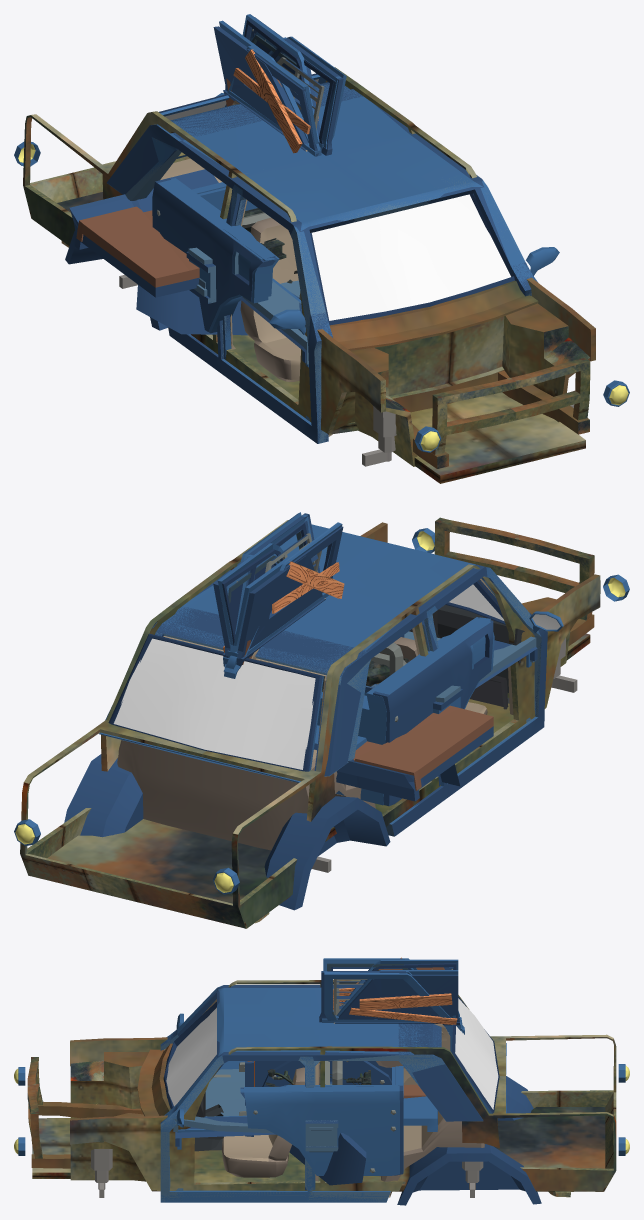
Rendered from car_s_atlasom_center_pivot.fbx.
3 renders of one model, top to bottom at view 1: azimuth 30°, elevation 25°; view 2: azimuth 150°, elevation 25°; view 3: azimuth 270°, elevation 25°, orthographic. The views are drawn at different scales.
Visible parts, largest first — view 1: frame, body, steklo_pered, krisha, bagazh (×2), nesnimaemoe1, t3_zad, salon2, bokovi_zad (×2), krysha, t3_bamper, front_door_t3_4 (+7 smaller); view 2: frame, steklo_zad, nesnimaemoe1, salon2, body, krisha, bagazh (×2), t3_zad, bokovi_zad (×2), front_door_t3_4, krysha, back_door_t1_2 (+10 smaller); view 3: frame, body, bokovi_zad (×2), nesnimaemoe1, salon2, krisha, krysha, front_door_t3, steklo_zad, steklo_pered, bagazh_pered, t3_bamper (+16 smaller).
Boxes of the visible parts, left/top/right/bottom form: frame: left=23, top=67, right=595, bottom=483; body: left=107, top=83, right=537, bottom=443; steklo_pered: left=312, top=194, right=510, bottom=320; krisha: left=107, top=82, right=537, bottom=443; bagazh (×2): left=69, top=169, right=218, bottom=297; nesnimaemoe1: left=14, top=73, right=629, bottom=466; t3_zad: left=152, top=178, right=276, bottom=331; salon2: left=160, top=158, right=332, bottom=436; bokovi_zad (×2): left=158, top=178, right=279, bottom=333; krysha: left=111, top=138, right=531, bottom=443; t3_bamper: left=136, top=200, right=270, bottom=335; front_door_t3_4: left=213, top=26, right=308, bottom=151; frame: left=20, top=517, right=600, bottom=928; steklo_zad: left=113, top=638, right=315, bottom=769; nesnimaemoe1: left=14, top=528, right=629, bottom=910; salon2: left=117, top=578, right=524, bottom=850; body: left=155, top=524, right=541, bottom=835; krisha: left=105, top=562, right=547, bottom=836; bagazh (×2): left=314, top=705, right=493, bottom=801; t3_zad: left=174, top=617, right=493, bottom=806; bokovi_zad (×2): left=176, top=617, right=494, bottom=805; front_door_t3_4: left=236, top=555, right=325, bottom=667; krysha: left=156, top=568, right=541, bottom=836; back_door_t1_2: left=223, top=522, right=344, bottom=671; frame: left=27, top=979, right=616, bottom=1197; body: left=160, top=986, right=476, bottom=1202; bokovi_zad (×2): left=240, top=1066, right=403, bottom=1175; nesnimaemoe1: left=14, top=996, right=629, bottom=1205; salon2: left=164, top=999, right=484, bottom=1197; krisha: left=160, top=985, right=483, bottom=1190; krysha: left=160, top=1011, right=482, bottom=1202; front_door_t3: left=335, top=974, right=459, bottom=1025; steklo_zad: left=455, top=998, right=498, bottom=1109; steklo_pered: left=166, top=1007, right=216, bottom=1106; bagazh_pered: left=173, top=1069, right=272, bottom=1133; t3_bamper: left=289, top=1061, right=366, bottom=1185.
Bounding box in the file's own units: 168 × 129 × 355.
